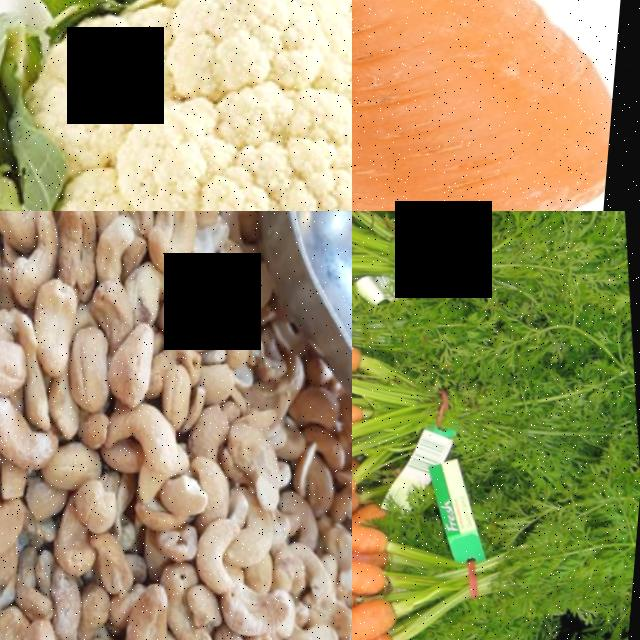carrot: (352, 0, 640, 211), (352, 535, 403, 600), (352, 506, 418, 555), (352, 598, 427, 640)
cashew: (107, 385, 194, 483), (191, 494, 264, 605), (26, 257, 95, 371), (66, 308, 130, 402), (218, 415, 290, 495), (0, 400, 72, 478), (210, 285, 269, 370), (143, 211, 216, 279), (115, 318, 174, 397), (153, 274, 220, 343), (122, 578, 192, 640), (0, 323, 40, 390), (0, 488, 43, 547), (209, 615, 281, 640), (0, 606, 45, 640), (26, 608, 72, 640), (268, 623, 343, 640)
cauliflower: (0, 0, 352, 211)
